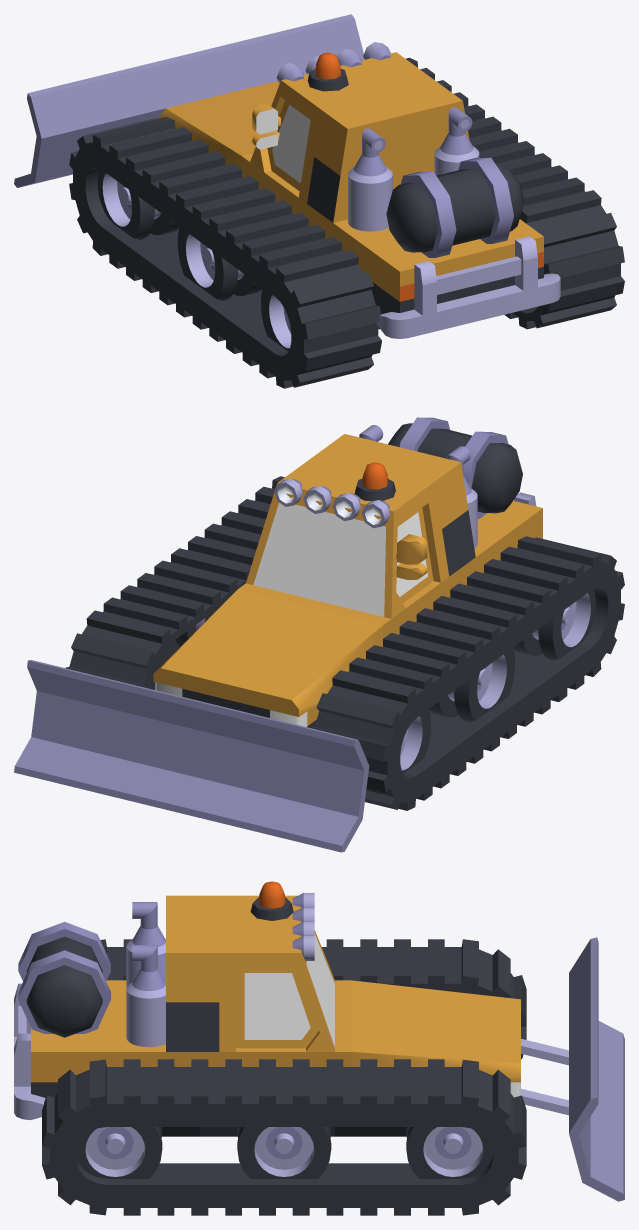
The model's file is bulldozer.obj.
3 views of the same model, one above another, from view 1: azimuth 30°, elevation 25°; view 2: azimuth 150°, elevation 25°; view 3: azimuth 270°, elevation 25° (orthographic).
Parts seen in each view (by area): view 1: mergedBlocks; view 2: mergedBlocks; view 3: mergedBlocks.
Boxes of the visible parts, box(x1,y1,x2,y2) form: mergedBlocks: box(14, 14, 624, 388); mergedBlocks: box(14, 417, 624, 852); mergedBlocks: box(14, 881, 624, 1215).
Bounding box in the file's own units: 2.25 × 1.58 × 3.62.
1 material, 1 textured.
